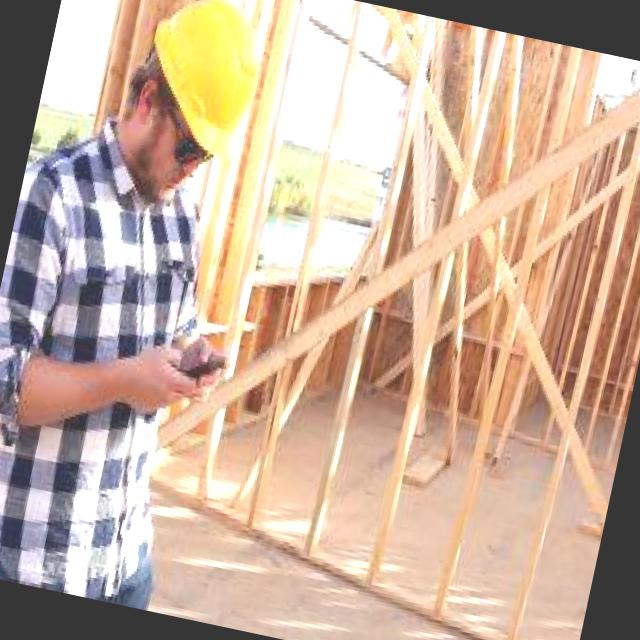goggles: (126, 90, 240, 182)
helmet: (114, 0, 291, 172)
no-vest: (0, 133, 237, 592)
